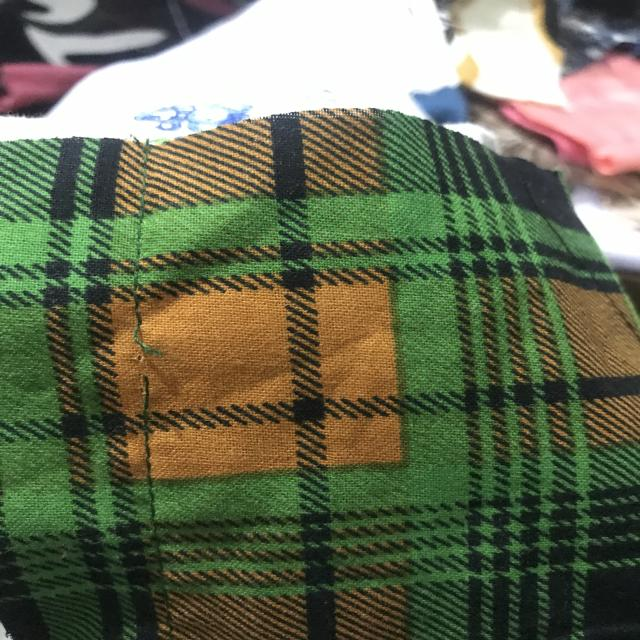broken: (123, 313, 171, 399)
good: (134, 432, 168, 510)
